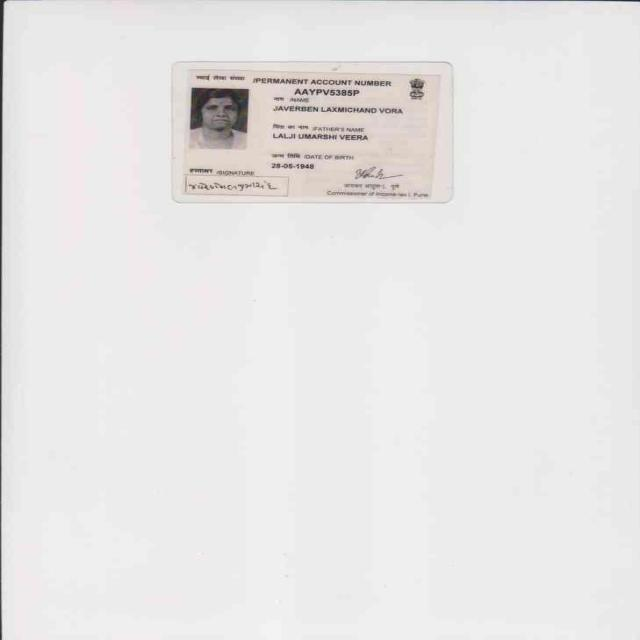pan_card: (181, 67, 439, 201)
